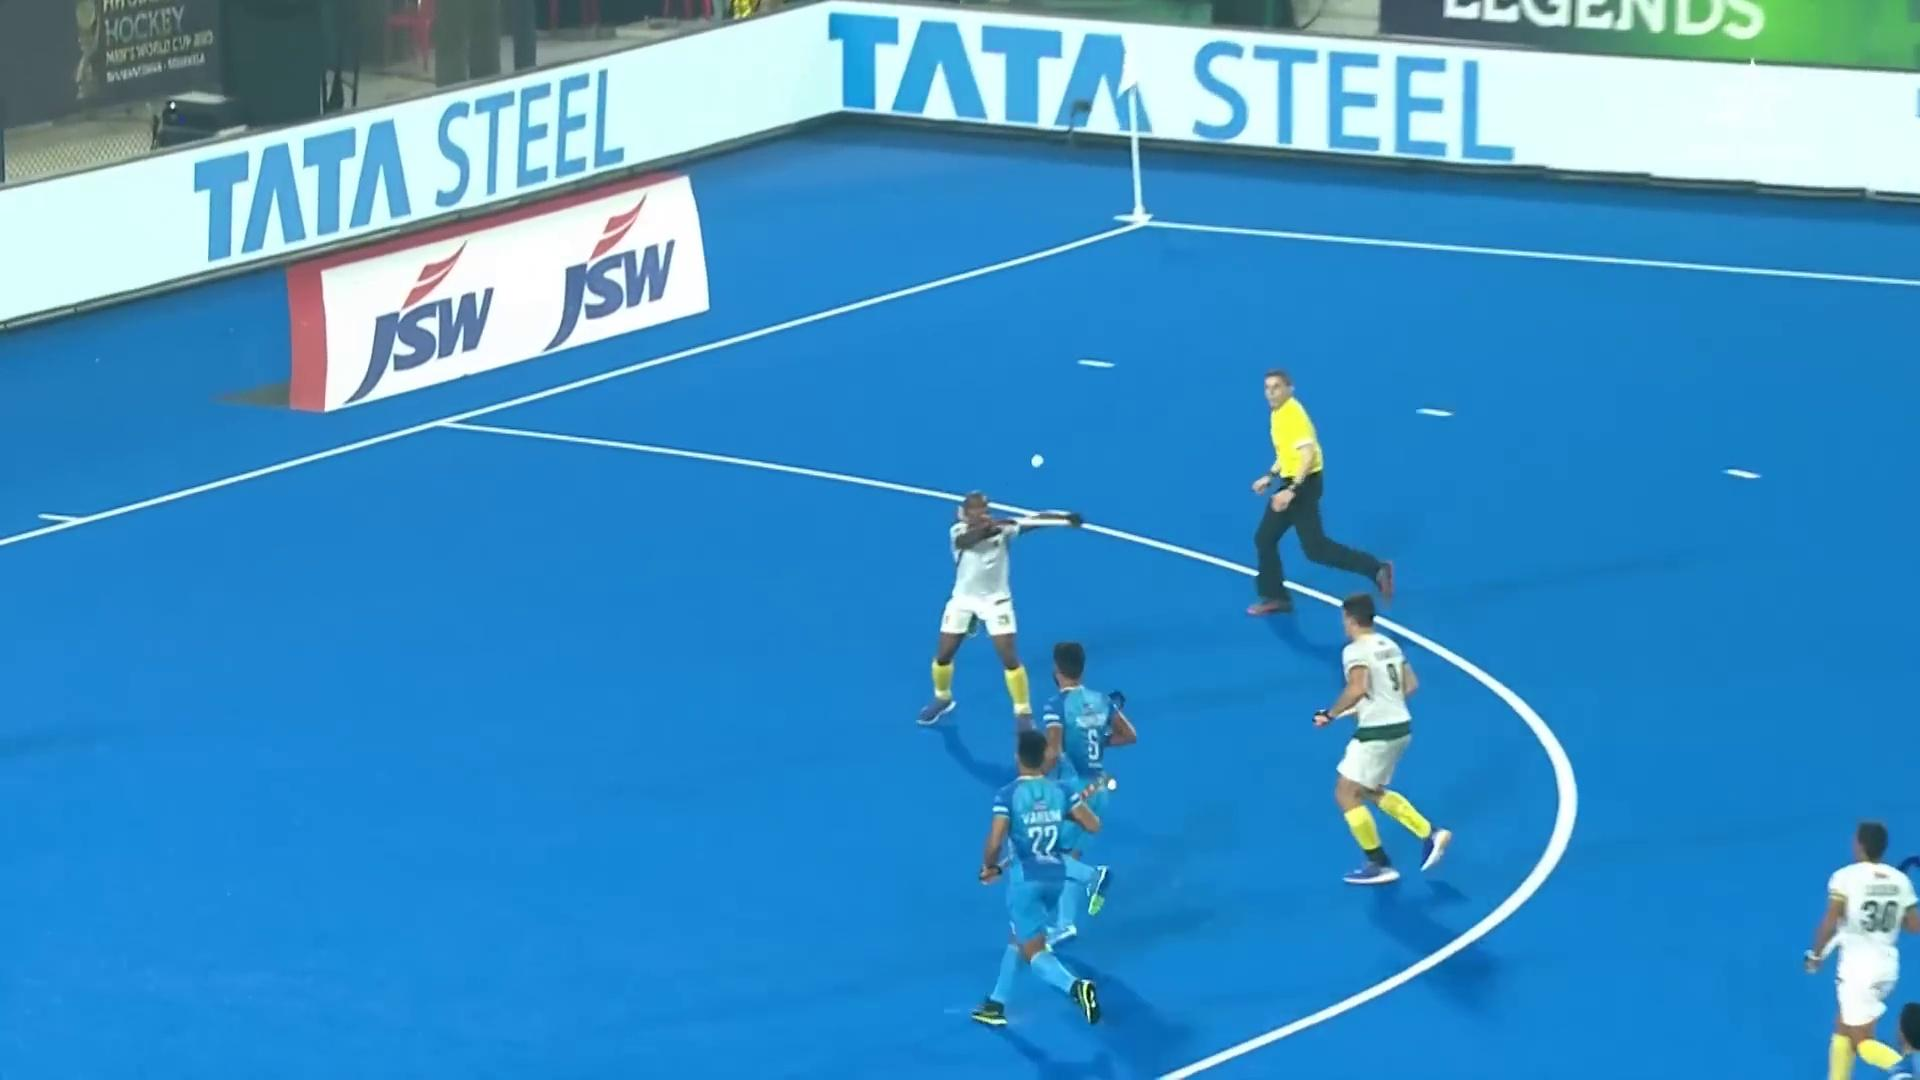ball: (1021, 448, 1051, 480)
